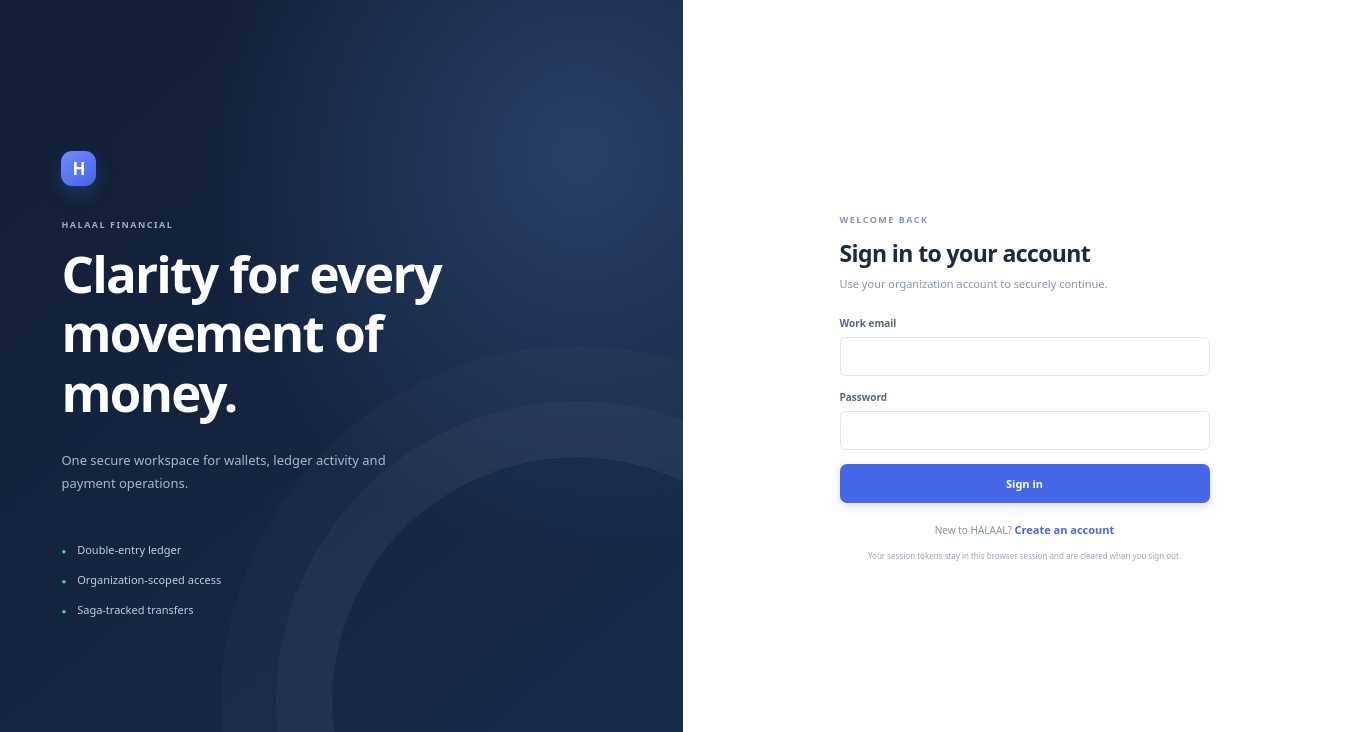
Test: wallet dashboard › loads the JWT organization profile and members for every signed-in role
Type "viewer@example.test" into the field labelled "Work email" at coordinates (1024, 356), box x1=840 y1=337 x2=1210 y2=376
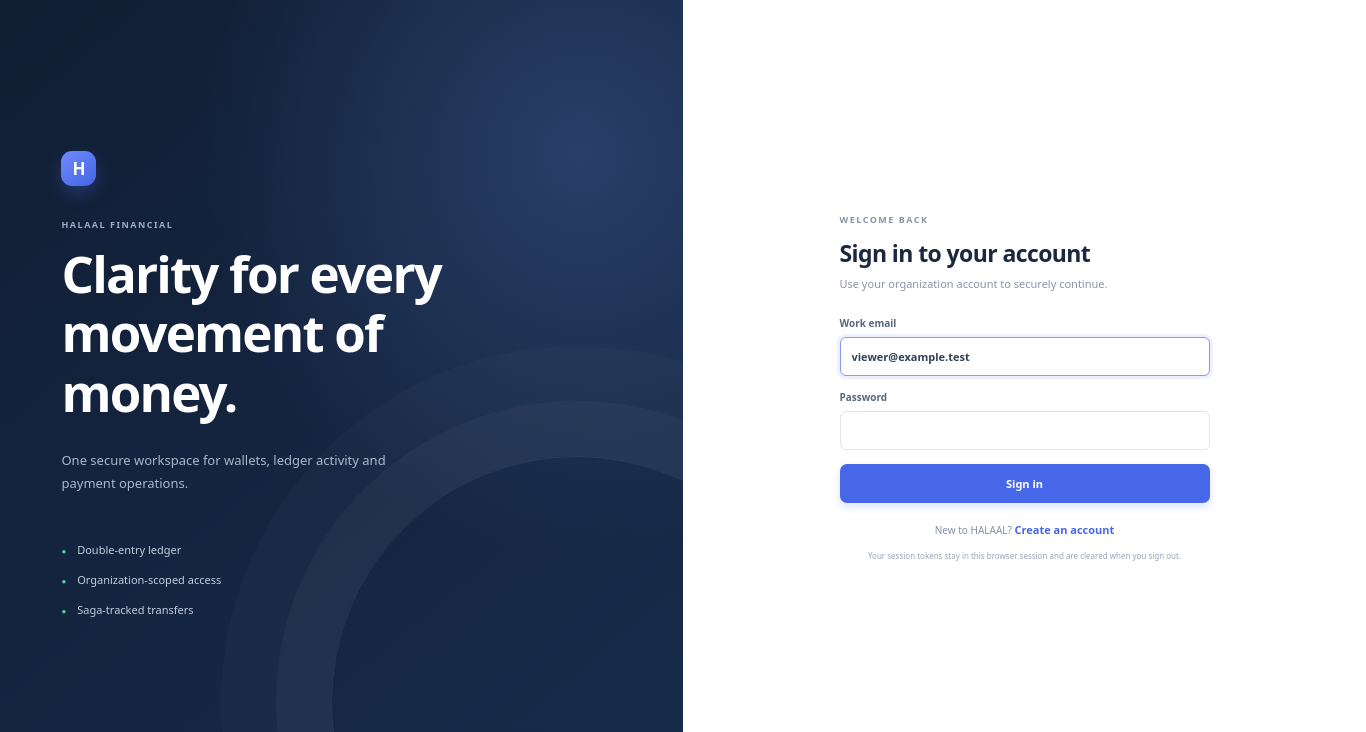
Type "correct-horse" into the password field labelled "Password" at coordinates (1024, 430), box x1=840 y1=411 x2=1210 y2=450
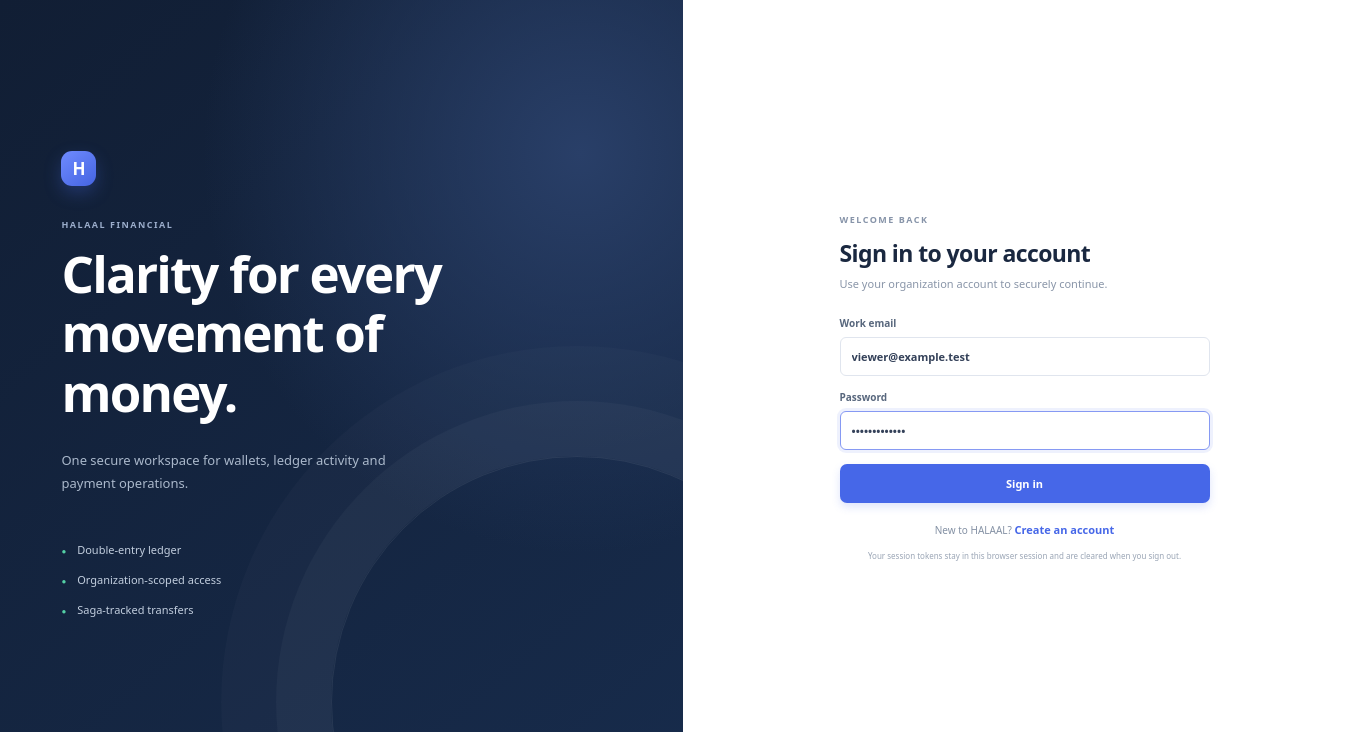
Click the button "Sign in" at coordinates (1024, 483), box x1=840 y1=464 x2=1210 y2=503
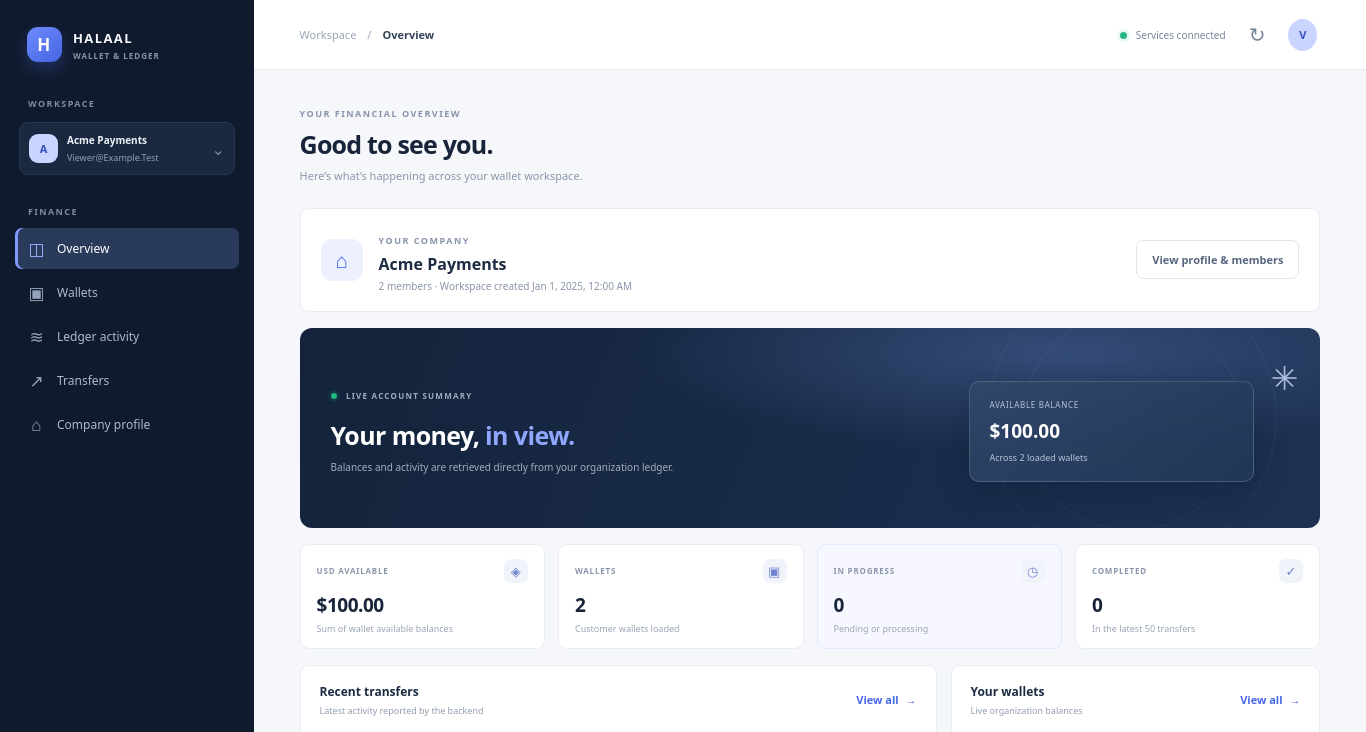
Click the button "⌂ Company profile" at coordinates (127, 424), box x1=15 y1=404 x2=239 y2=445
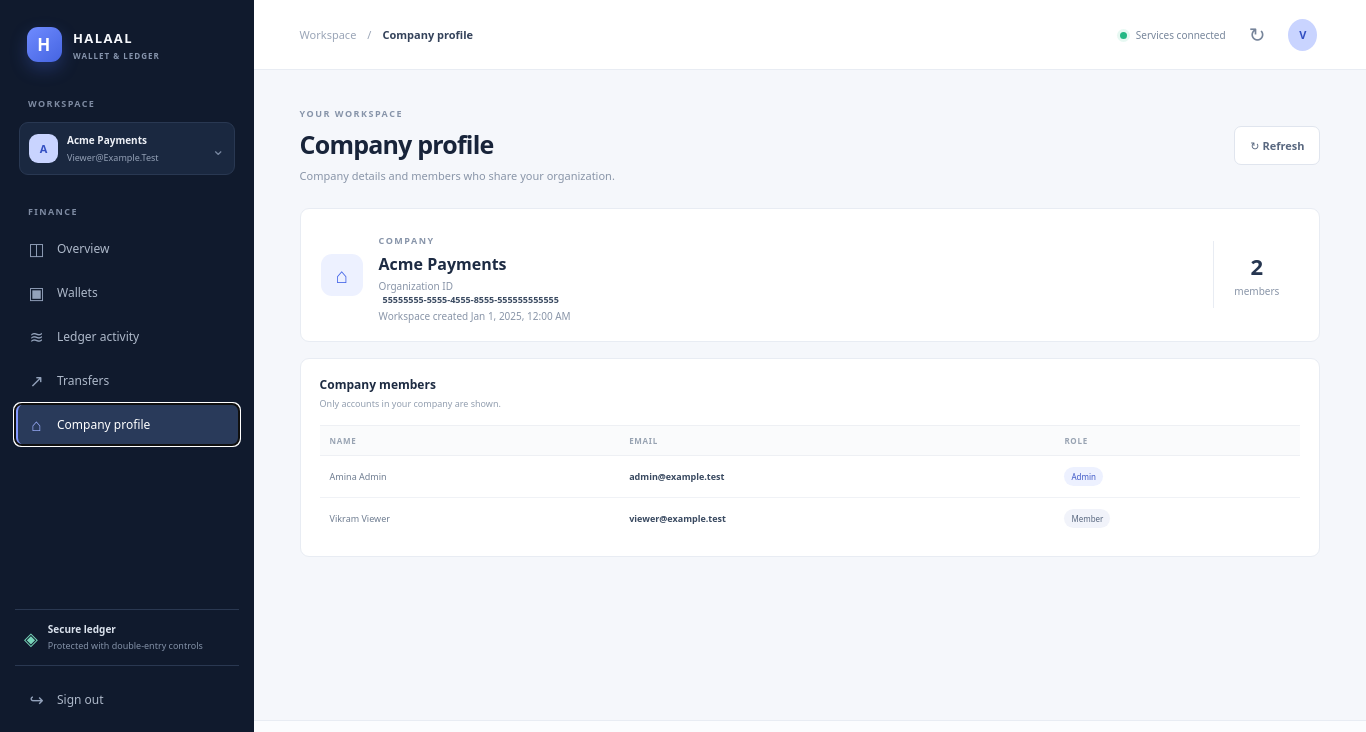
Expected: the heading "Company profile" is shown, x1=300 y1=127 x2=494 y2=161
Expected: the text "Amina Admin" is shown, x1=320 y1=455 x2=619 y2=497
Expected: the text "admin@example.test" is shown, x1=629 y1=470 x2=724 y2=483
